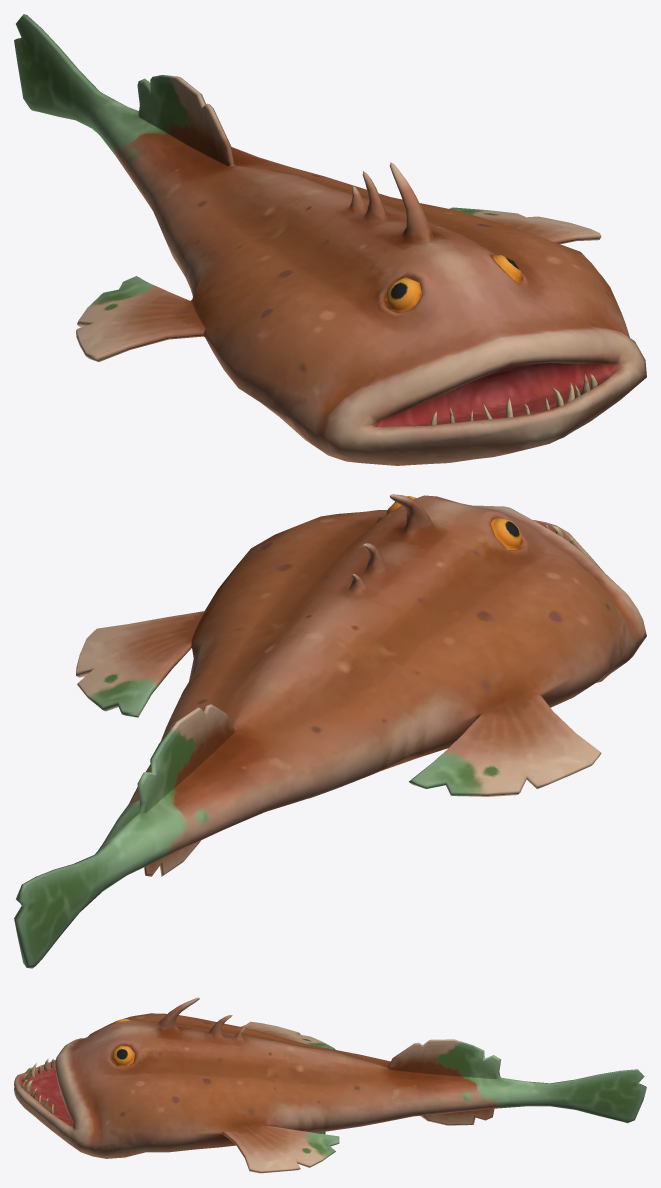
3 views of the same model, one above another, from view 1: azimuth 30°, elevation 25°; view 2: azimuth 150°, elevation 25°; view 3: azimuth 270°, elevation 25° (orthographic). The views are drawn at different scales.
Parts seen in each view (by area): view 1: SM_Fish_MonkFish_01_LOD0; view 2: SM_Fish_MonkFish_01_LOD0; view 3: SM_Fish_MonkFish_01_LOD0.
Part boxes in pixels (left/top/right/bottom): SM_Fish_MonkFish_01_LOD0: left=14, top=14, right=646, bottom=465; SM_Fish_MonkFish_01_LOD0: left=14, top=494, right=646, bottom=968; SM_Fish_MonkFish_01_LOD0: left=14, top=997, right=646, bottom=1173.
Size of the model in its own units: 0.3147 by 0.1508 by 0.5694.
Materials: 1 (1 with a texture image).
